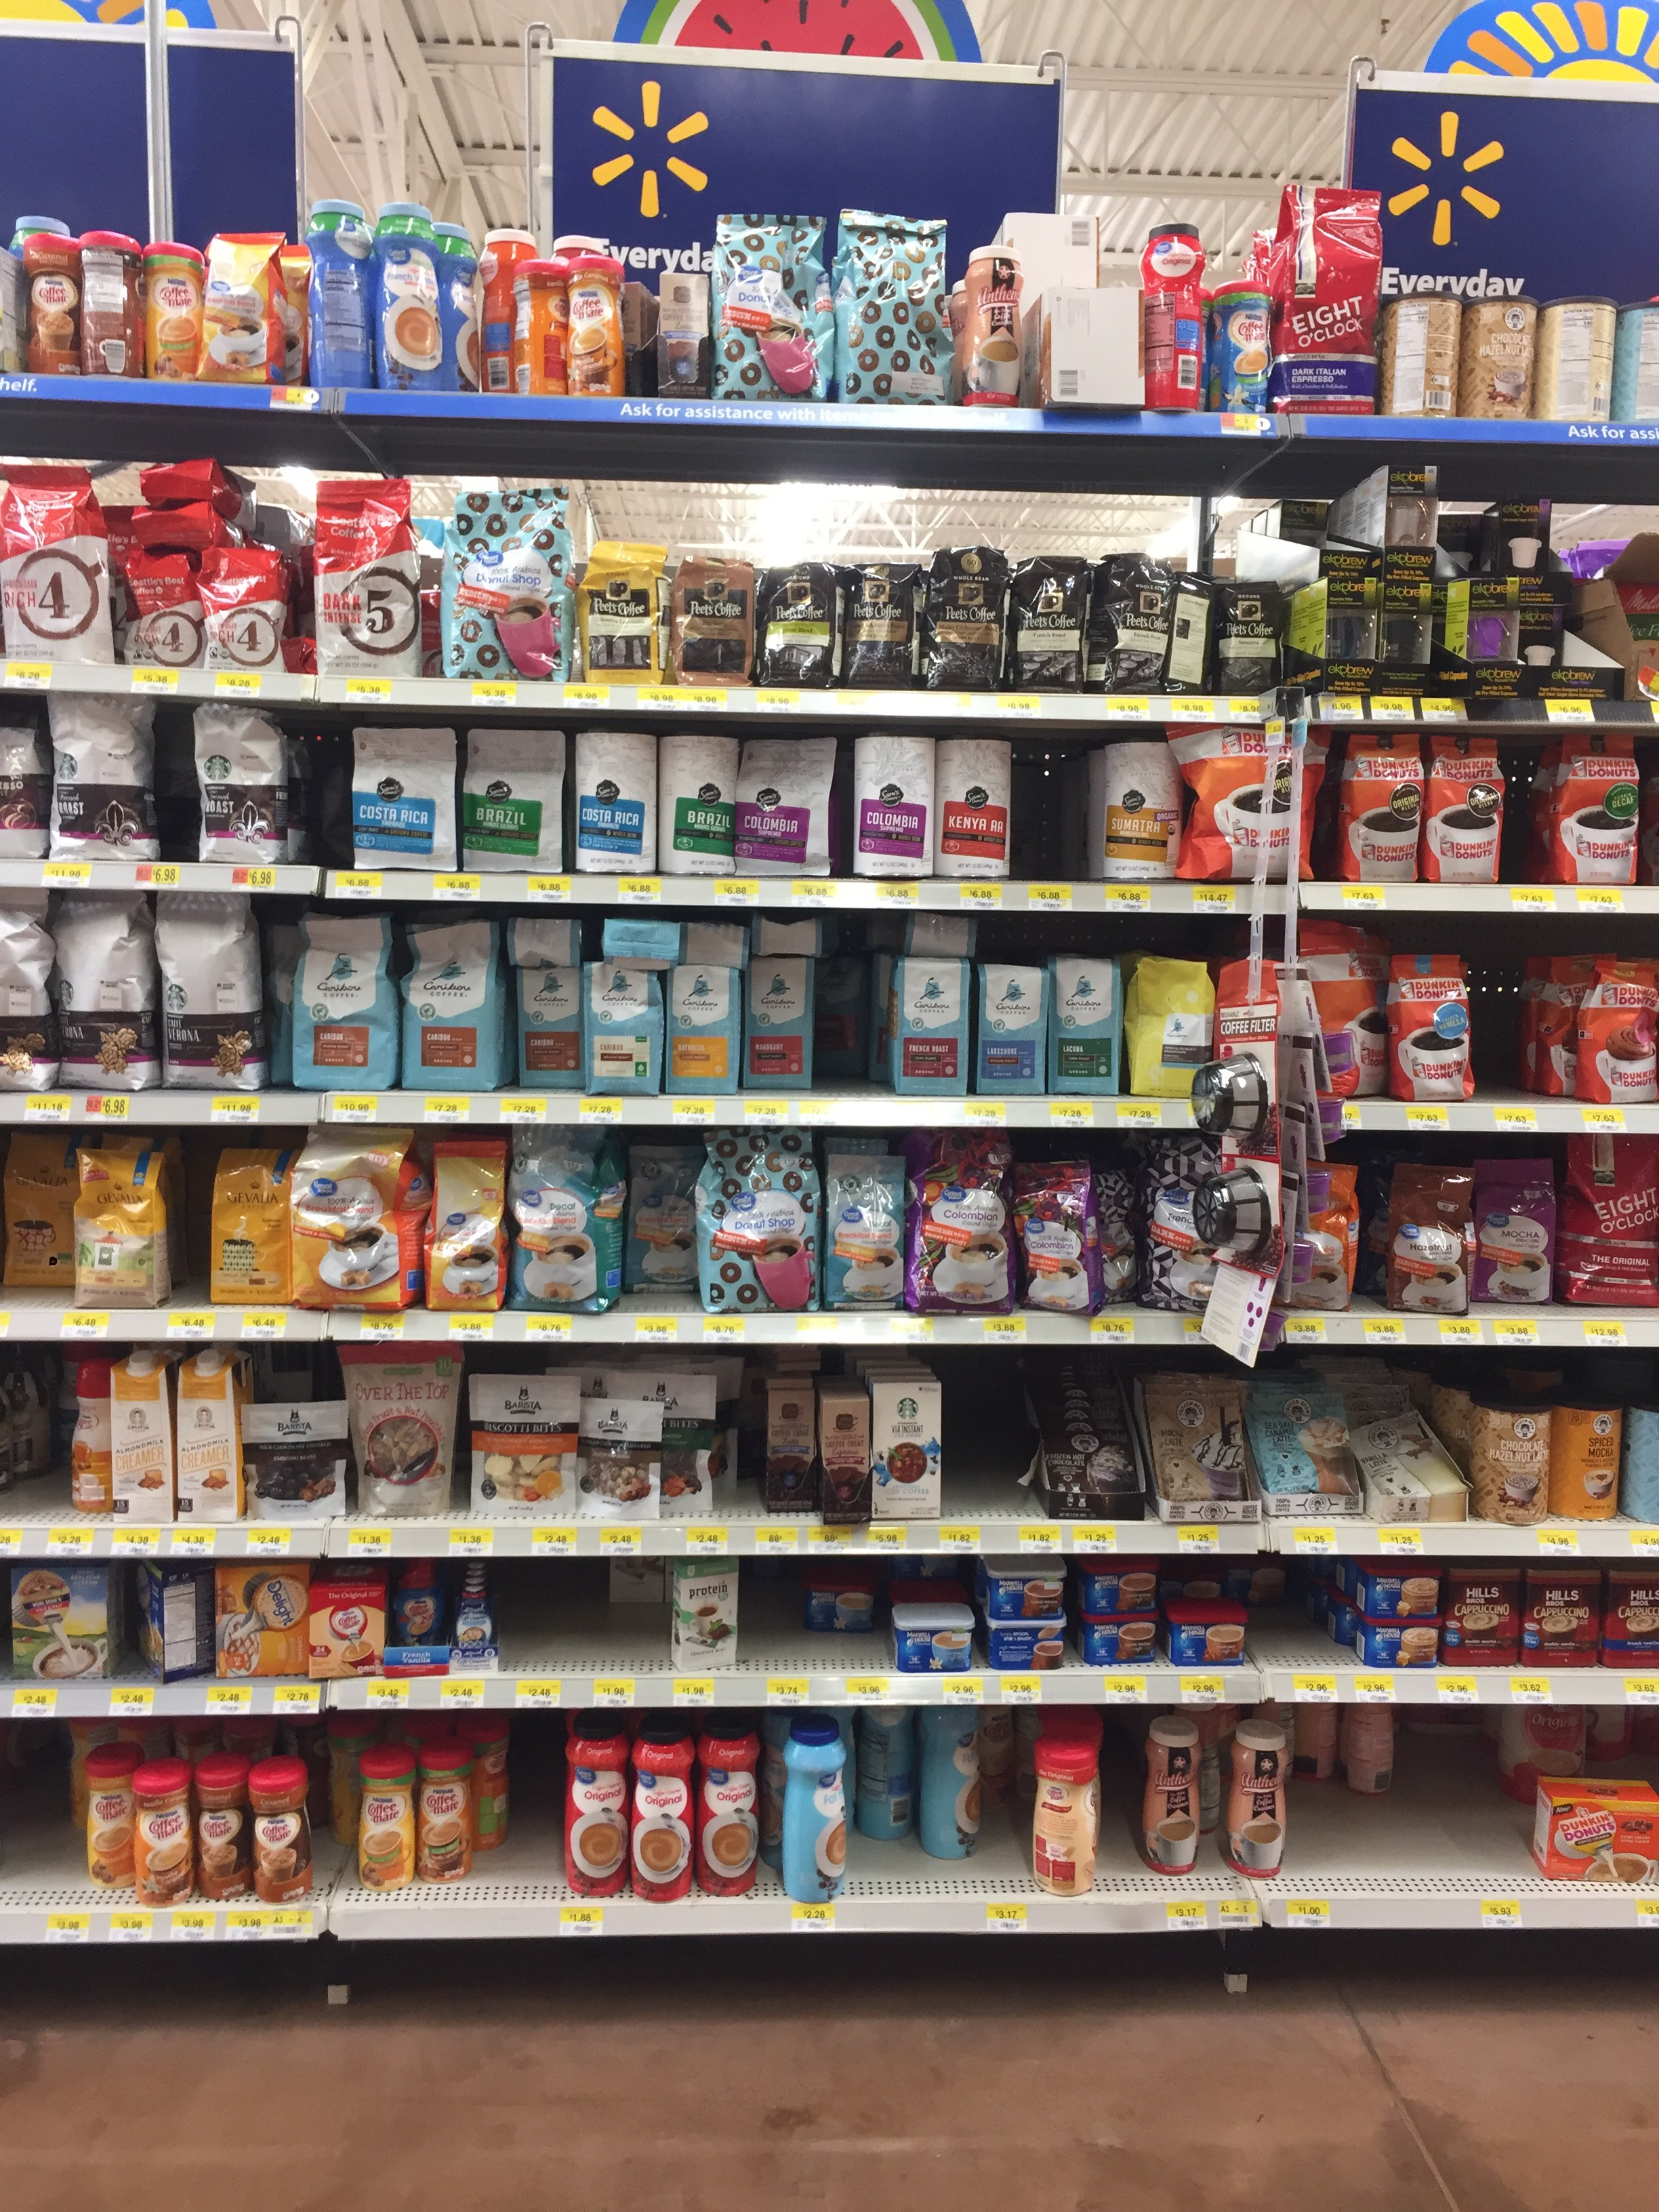product: (0, 456, 117, 665), (439, 491, 566, 683), (291, 1137, 423, 1312), (317, 481, 429, 676), (702, 1118, 812, 1315), (1283, 193, 1377, 413), (507, 1125, 617, 1312), (838, 216, 946, 402), (1187, 726, 1321, 876), (155, 892, 254, 1089), (352, 1345, 462, 1522), (716, 221, 826, 399), (298, 911, 396, 1099), (61, 897, 155, 1085), (54, 691, 157, 862), (406, 920, 507, 1092), (1563, 1127, 1659, 1305), (917, 1130, 1009, 1308), (195, 709, 291, 869), (474, 1369, 573, 1522), (78, 1148, 174, 1305), (359, 719, 458, 866), (199, 230, 288, 388), (471, 733, 566, 876), (1556, 737, 1649, 883), (1032, 291, 1140, 409), (307, 195, 371, 388), (748, 733, 836, 873), (824, 1153, 903, 1308), (1342, 732, 1422, 883), (10, 1562, 112, 1681), (253, 1402, 347, 1529), (1021, 1150, 1096, 1308), (927, 545, 1007, 693), (1392, 958, 1474, 1101), (1312, 914, 1378, 1089), (1427, 737, 1504, 887), (856, 733, 936, 876), (429, 1139, 495, 1312), (580, 545, 664, 679), (662, 733, 741, 876), (0, 1129, 70, 1289), (575, 730, 655, 869), (572, 1712, 631, 1900), (1035, 1737, 1105, 1895), (636, 1717, 695, 1900), (378, 202, 437, 385), (1481, 1158, 1558, 1299), (1107, 738, 1185, 876), (1096, 563, 1176, 697), (1298, 1162, 1371, 1305), (788, 1721, 843, 1907), (179, 1353, 240, 1522), (0, 895, 52, 1092), (1389, 1170, 1466, 1305), (1154, 1386, 1236, 1512), (1265, 1381, 1344, 1512), (213, 540, 291, 669), (701, 1716, 755, 1900), (1014, 552, 1082, 697), (1053, 960, 1124, 1096), (216, 1150, 281, 1299), (939, 742, 1011, 876), (1539, 293, 1612, 423), (1582, 967, 1652, 1103), (1143, 1724, 1208, 1871), (1387, 291, 1460, 420), (1528, 1803, 1659, 1874), (967, 240, 1025, 402), (676, 557, 748, 686), (1154, 218, 1201, 409), (220, 1568, 301, 1677), (849, 561, 922, 683), (762, 563, 842, 672), (1133, 953, 1199, 1085), (580, 1395, 655, 1512), (589, 975, 660, 1096), (143, 1559, 211, 1684), (899, 967, 969, 1089), (626, 1153, 685, 1296), (978, 968, 1044, 1096), (1370, 1416, 1457, 1512), (1236, 1726, 1291, 1874), (1481, 1407, 1551, 1526), (927, 1696, 976, 1864), (61, 1357, 113, 1512), (1556, 1407, 1626, 1522), (676, 1547, 742, 1667), (676, 974, 741, 1092), (26, 235, 80, 376), (1467, 301, 1530, 420), (260, 1754, 310, 1900), (514, 970, 580, 1082), (1215, 284, 1269, 420), (859, 1703, 911, 1843), (91, 228, 139, 376), (579, 254, 631, 392), (880, 1386, 936, 1515), (362, 1764, 416, 1897), (202, 1763, 251, 1907), (122, 564, 192, 665), (122, 1359, 166, 1519), (143, 1771, 192, 1914), (751, 972, 814, 1082), (422, 1763, 474, 1892), (666, 1381, 721, 1501), (0, 721, 51, 852), (1061, 1411, 1136, 1498), (655, 266, 706, 395), (1026, 211, 1103, 293), (1457, 1578, 1523, 1670), (1105, 1167, 1150, 1301), (385, 1559, 446, 1658), (310, 1592, 378, 1681), (528, 258, 572, 395), (152, 244, 195, 380), (770, 1390, 816, 1508), (1605, 1571, 1659, 1670), (1201, 1059, 1274, 1132), (490, 221, 521, 392), (1194, 1186, 1260, 1264), (1532, 1585, 1598, 1663), (826, 968, 875, 1073), (98, 1764, 136, 1895), (1225, 590, 1272, 697), (450, 223, 479, 388), (829, 1397, 870, 1519), (1380, 583, 1424, 693), (1621, 307, 1659, 427), (1352, 1698, 1398, 1799), (481, 1719, 516, 1850), (1330, 583, 1370, 697), (453, 1578, 502, 1667), (1391, 484, 1432, 578), (1370, 1571, 1450, 1620), (1183, 578, 1218, 690), (896, 1616, 971, 1667), (992, 1569, 1070, 1616), (1302, 1700, 1342, 1789), (1467, 585, 1514, 660), (1525, 578, 1567, 662), (1176, 1615, 1248, 1663), (518, 914, 587, 963), (809, 1578, 870, 1634), (992, 1627, 1068, 1670), (1093, 1564, 1162, 1609), (1086, 1618, 1161, 1660), (1506, 498, 1546, 575), (1635, 1397, 1659, 1522), (1366, 1627, 1446, 1663), (690, 921, 756, 963), (335, 1733, 359, 1846), (64, 1728, 92, 1825), (155, 462, 225, 498), (1448, 514, 1490, 575), (615, 1555, 662, 1609), (141, 512, 209, 549), (612, 925, 666, 967), (913, 909, 971, 948), (1286, 509, 1331, 552), (767, 921, 819, 956), (1251, 1566, 1295, 1602)
